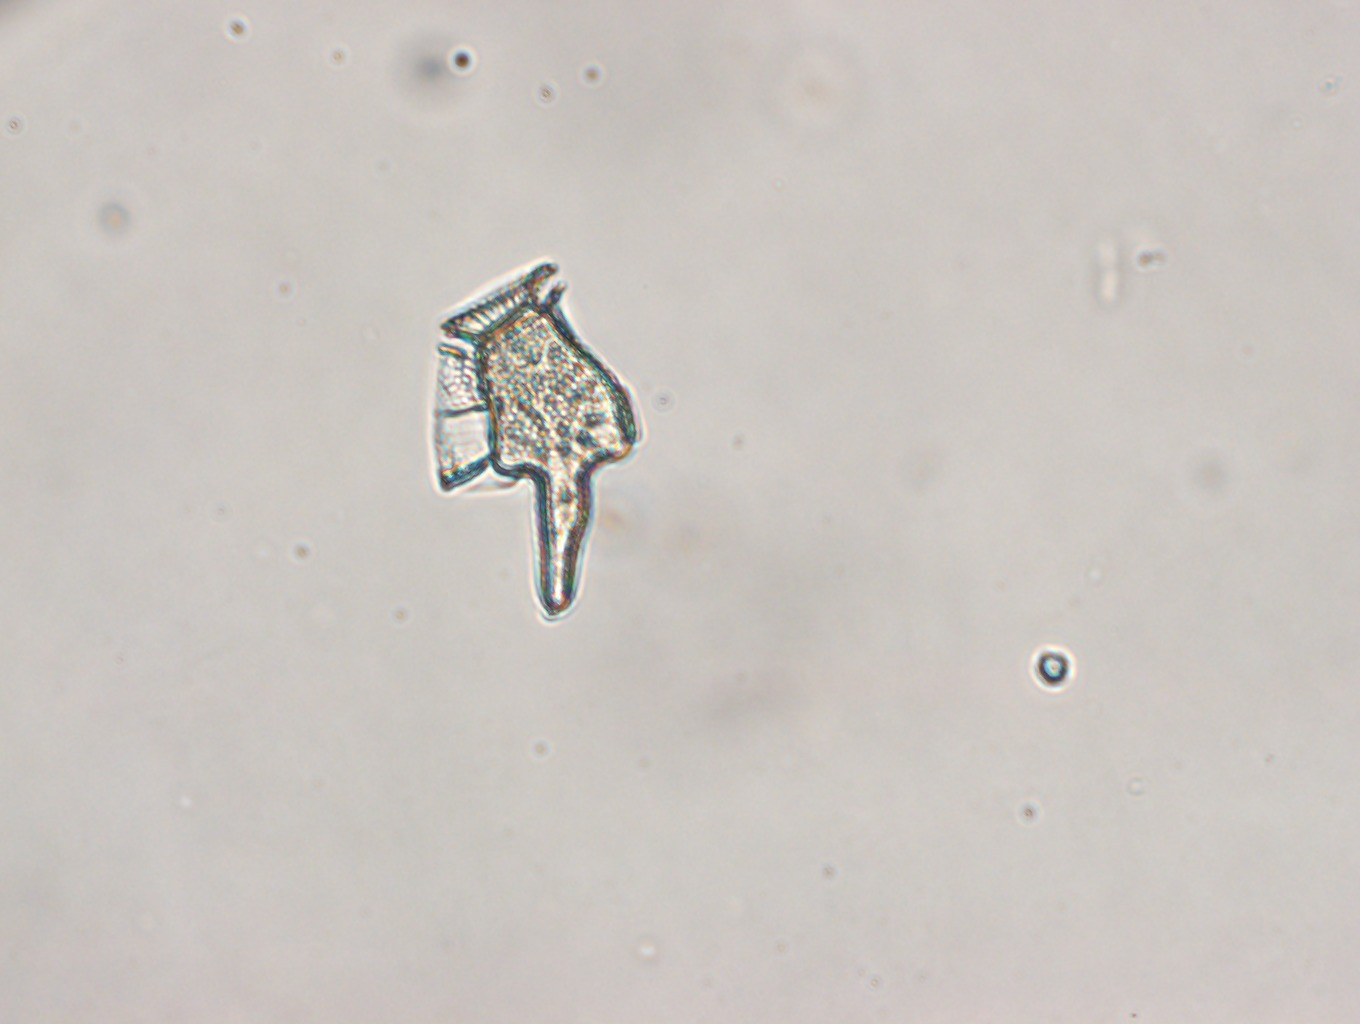dinophysis caudata: (429, 260, 640, 623)
